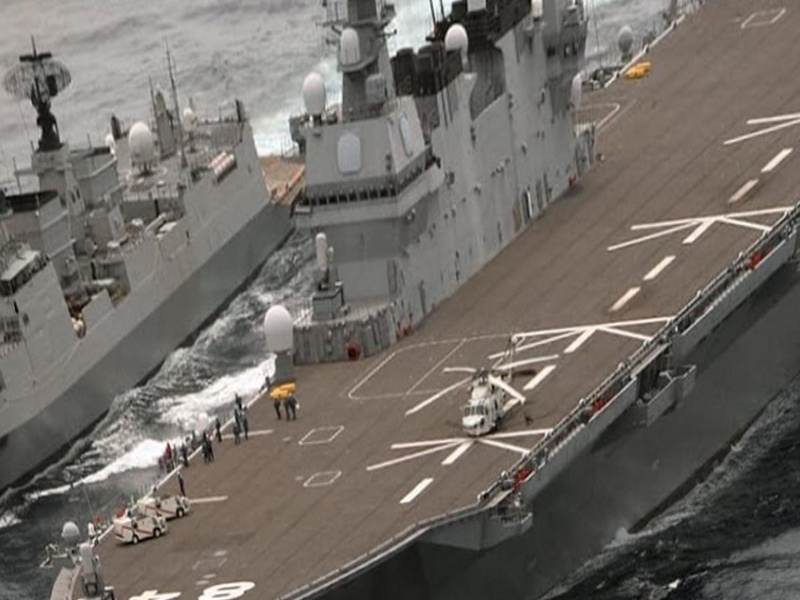carrier: (184, 18, 796, 589)
cruise: (5, 60, 265, 440)
